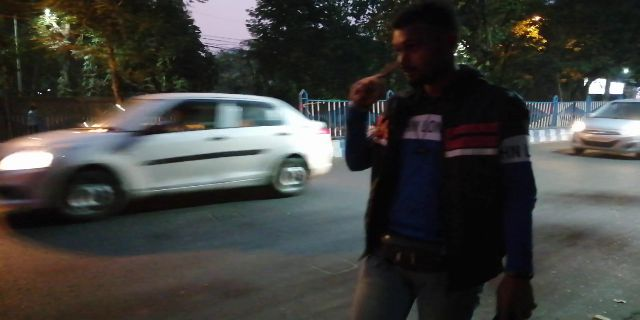Car: (7, 86, 330, 218)
